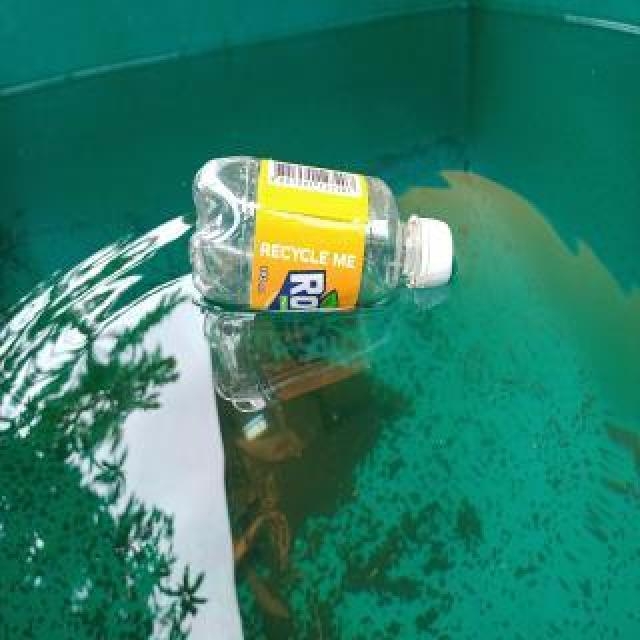bottle: (188, 154, 454, 316)
